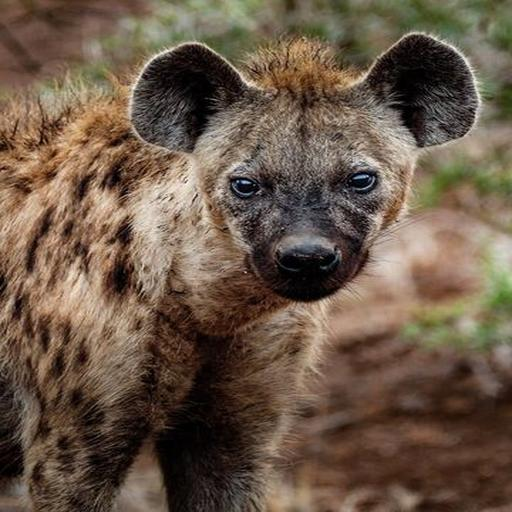Hyena: (0, 28, 486, 512)
